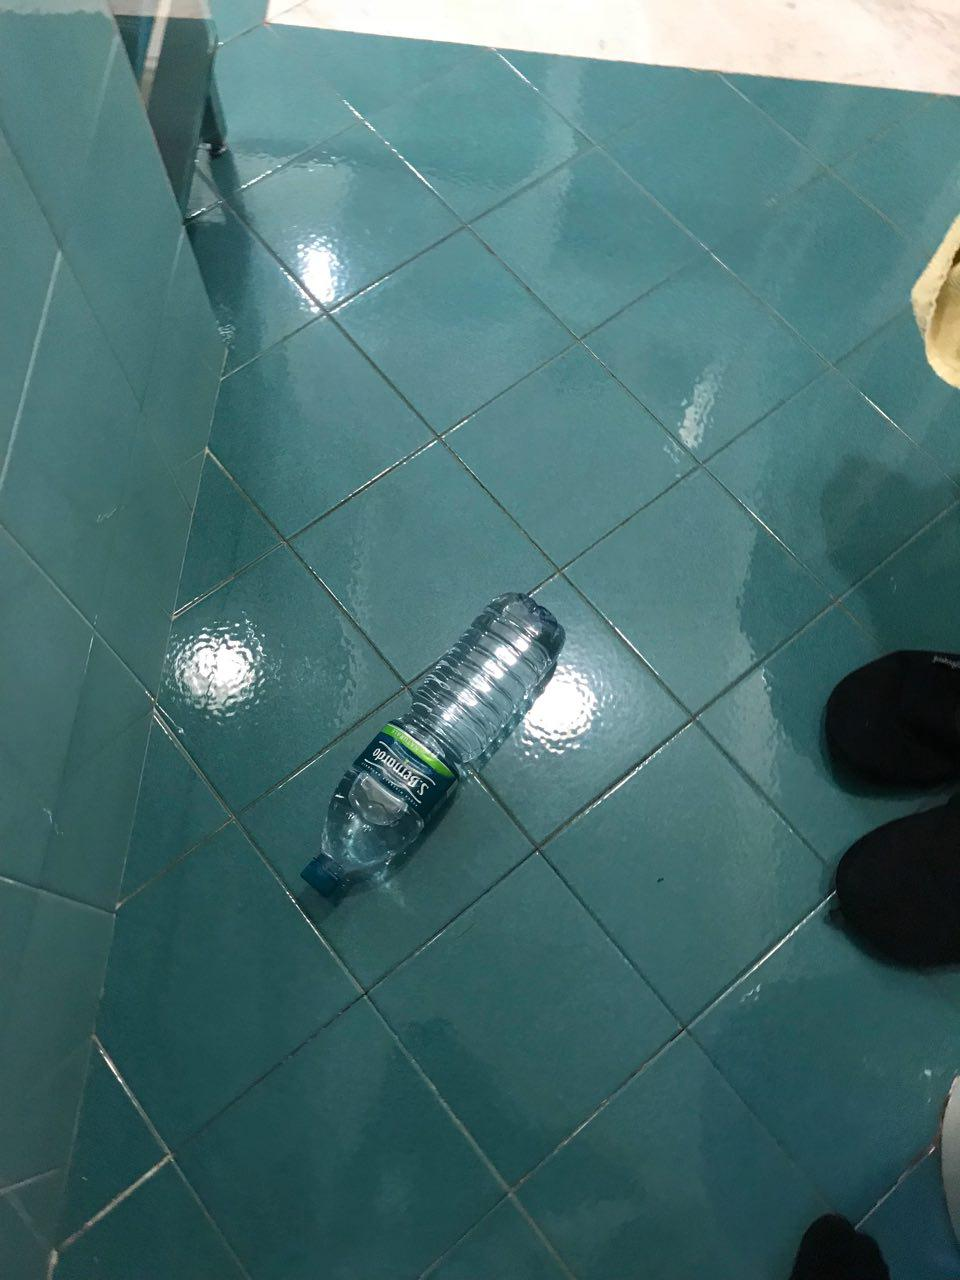san_bernardo: (299, 591, 566, 900)
